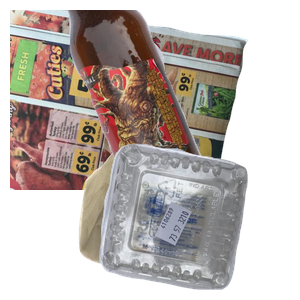glass: (65, 10, 300, 190)
paper: (10, 10, 250, 190)
plastic: (97, 141, 300, 300)
trash: (76, 124, 287, 300)
